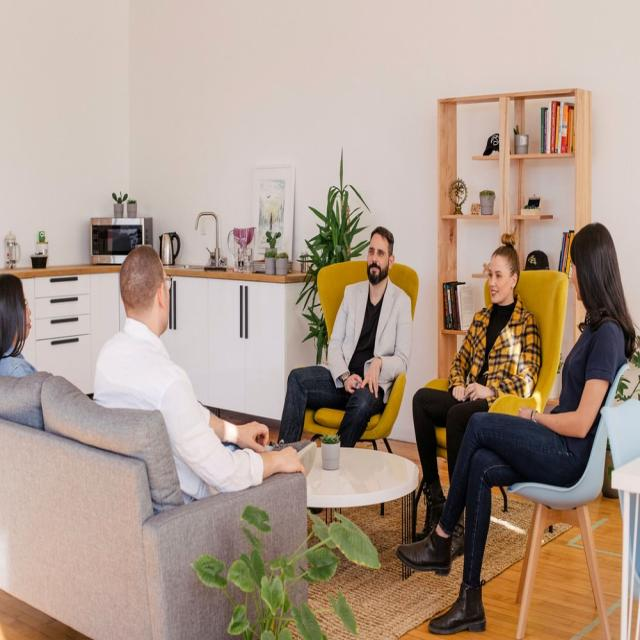adult: (397, 223, 630, 634), (94, 248, 305, 502), (409, 240, 543, 565), (276, 226, 414, 447)
